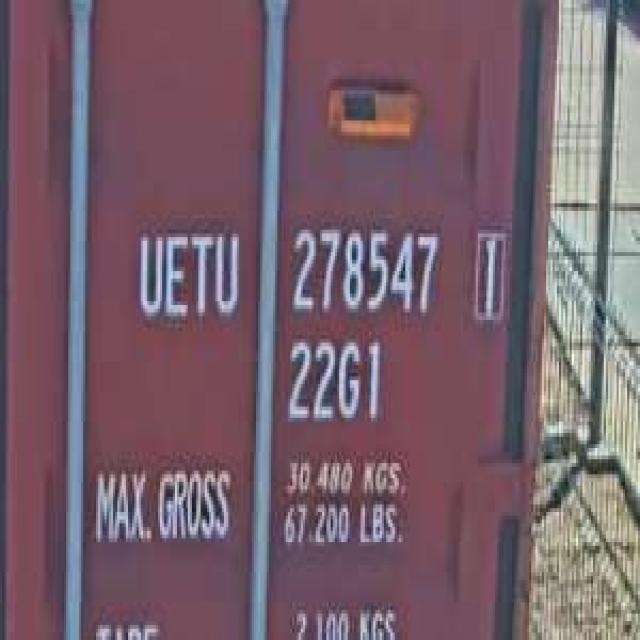dv: (467, 218, 510, 328)
owner: (132, 218, 243, 332)
serial: (286, 211, 444, 324)
size: (282, 328, 386, 429)
